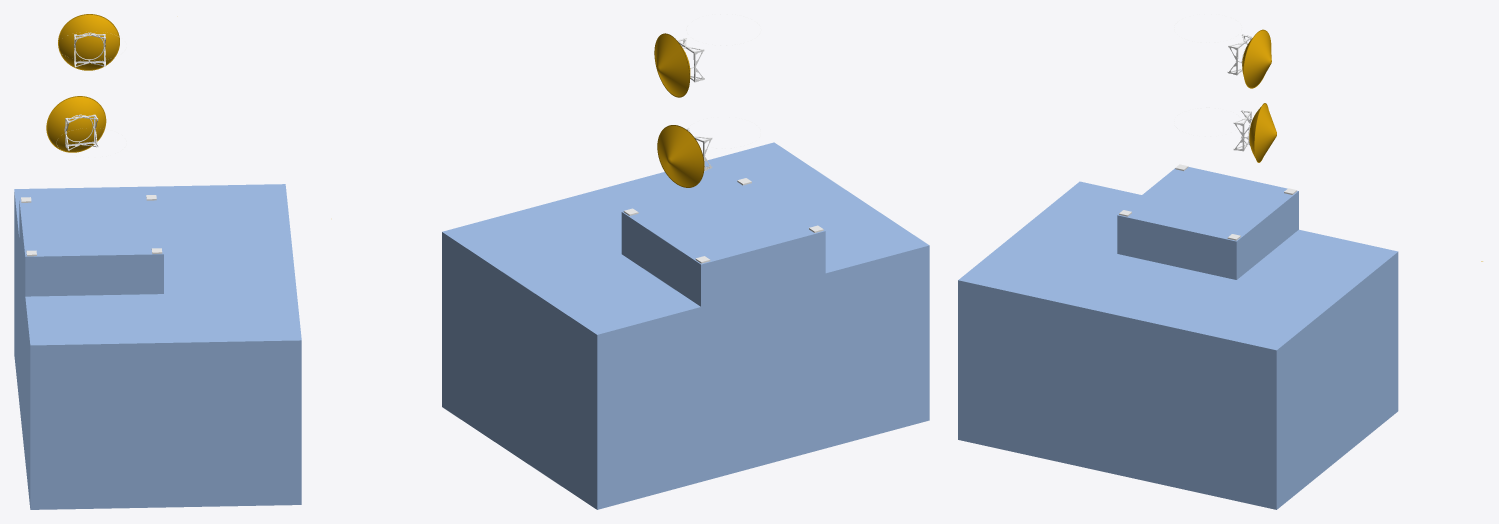
Rendered from ang普久川.glb.
The picture shows the model from 3 angles, left to right: view 1: azimuth 30°, elevation 25°; view 2: azimuth 150°, elevation 25°; view 3: azimuth 270°, elevation 25°; orthographic projection. The views are drawn at different scales.
Visible parts, largest first — view 1: group_75, group_4.001, group_26, group_26.004; view 2: group_75, group_4.001, group_26.004, group_26; view 3: group_75, group_4.001, group_26, group_26.004.
Part boxes in pixels (left/top/right/bottom): group_75: left=14, top=184, right=301, bottom=509; group_4.001: left=19, top=195, right=163, bottom=296; group_26: left=59, top=14, right=119, bottom=69; group_26.004: left=47, top=97, right=105, bottom=151; group_75: left=442, top=142, right=929, bottom=509; group_4.001: left=621, top=181, right=825, bottom=306; group_26.004: left=658, top=126, right=703, bottom=186; group_26: left=655, top=34, right=690, bottom=96; group_75: left=958, top=181, right=1398, bottom=509; group_4.001: left=1117, top=167, right=1298, bottom=279; group_26: left=1242, top=30, right=1271, bottom=87; group_26.004: left=1249, top=104, right=1276, bottom=161.
Size of the model in its own units: 20.47 by 21.49 by 26.98.
